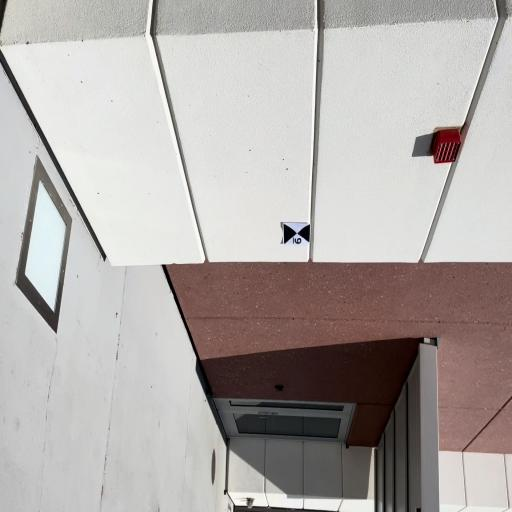target9: (282, 222, 311, 246)
